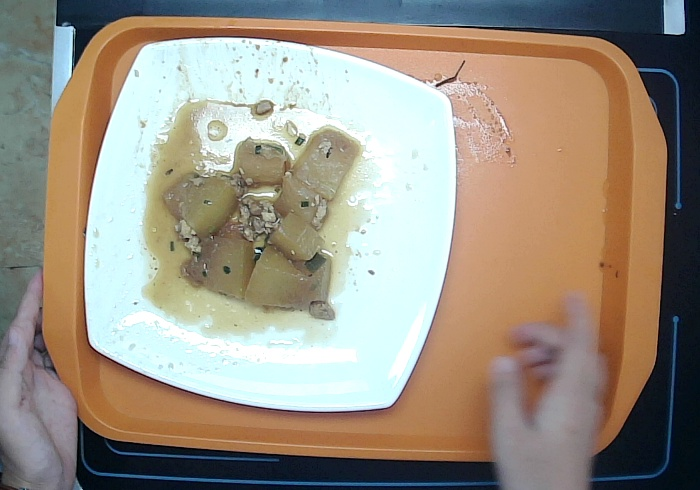ZNLD-Bai_Fang_Pan: (78, 34, 460, 413)
